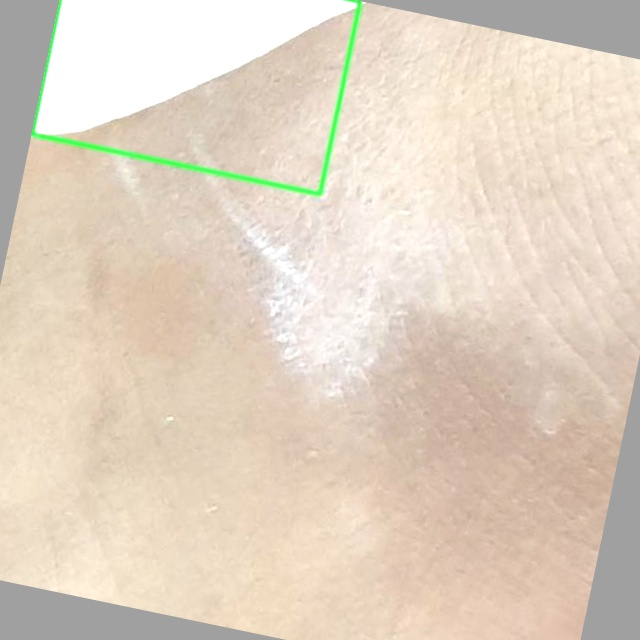Contact Dermatitis: (32, 0, 360, 193)
